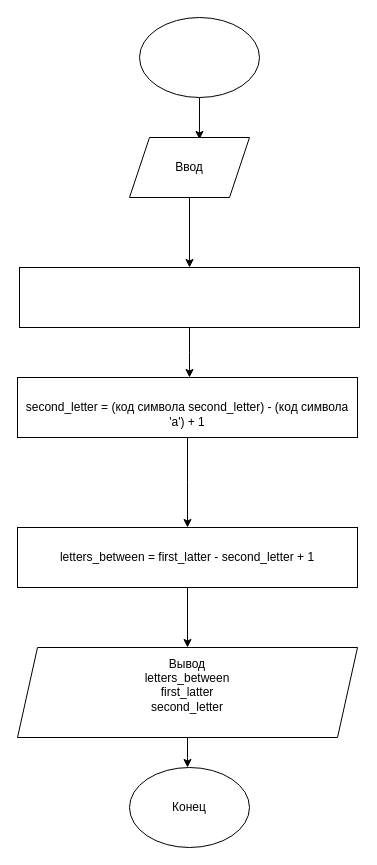
This 377x865 diagram has some shape labels left out. Each missing label, with the centre of its shape:
first_letter = (код символа first_letter) - (код символа 'a') + 1: (x=189, y=297)
Начало: (x=199, y=57)
